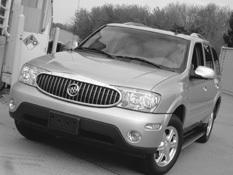car: (5, 18, 228, 175)
